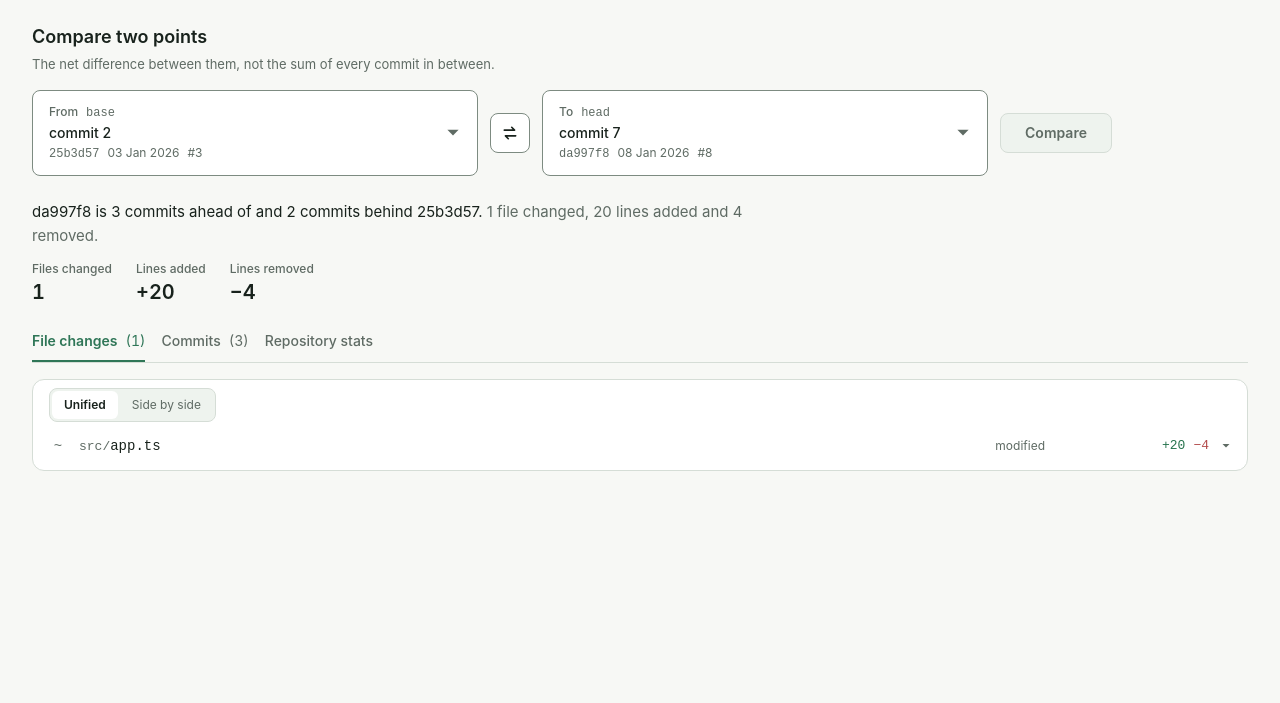
Test: CompareView directions › keeps the common ancestor in view for a diverged pair
The width and height of the screenshot is (1280, 703).
Click the tab "Commits (3)".
click(205, 342)  # box [161,322,249,362]
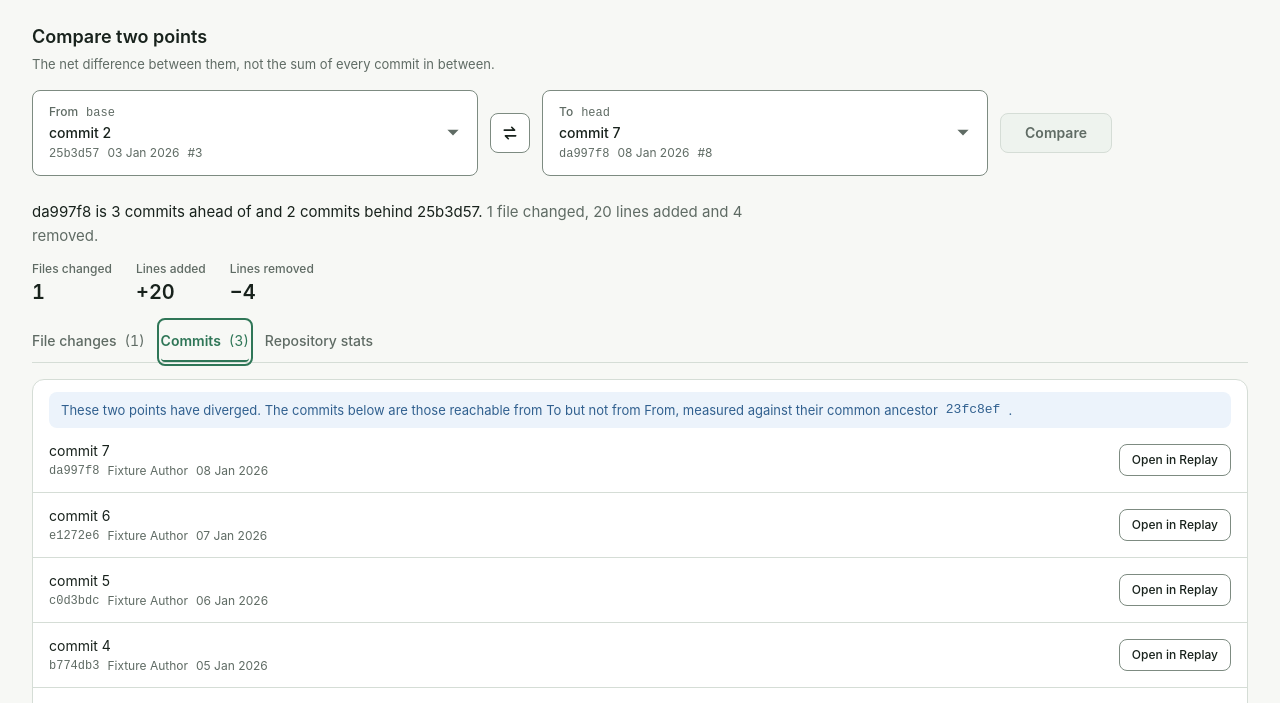
Expected: the text "common ancestor" is shown, [61,402,938,418]
